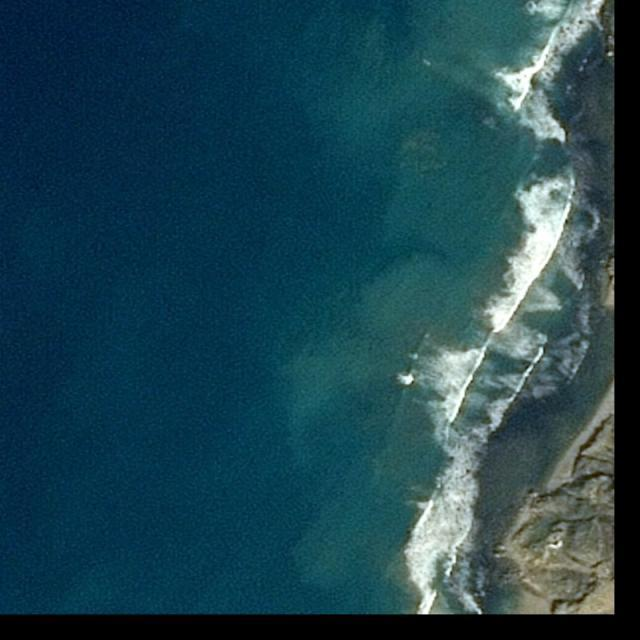ship: (423, 59, 433, 67)
